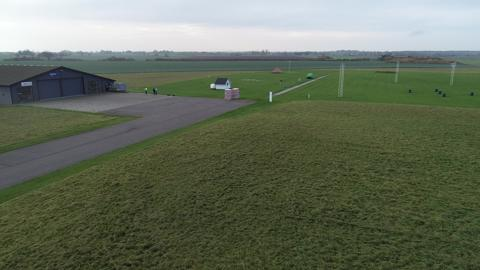RockwoolPallet: (233, 89, 239, 99)
